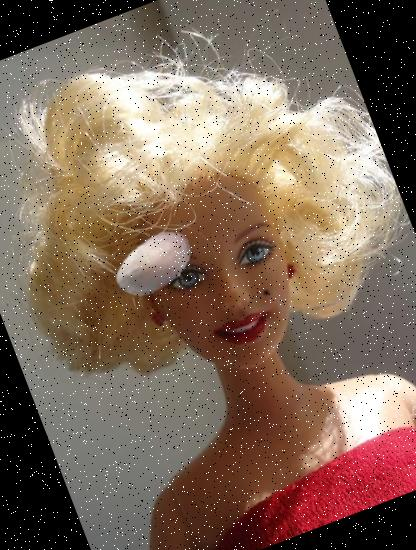Hazelnut: (99, 208, 210, 319)
